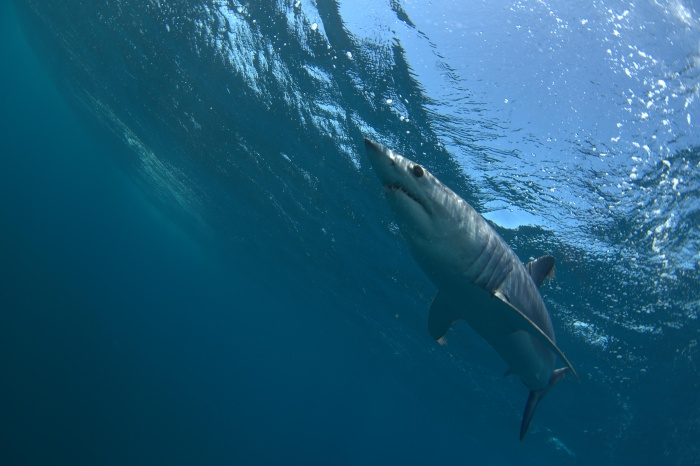Mako: (348, 124, 586, 445)
